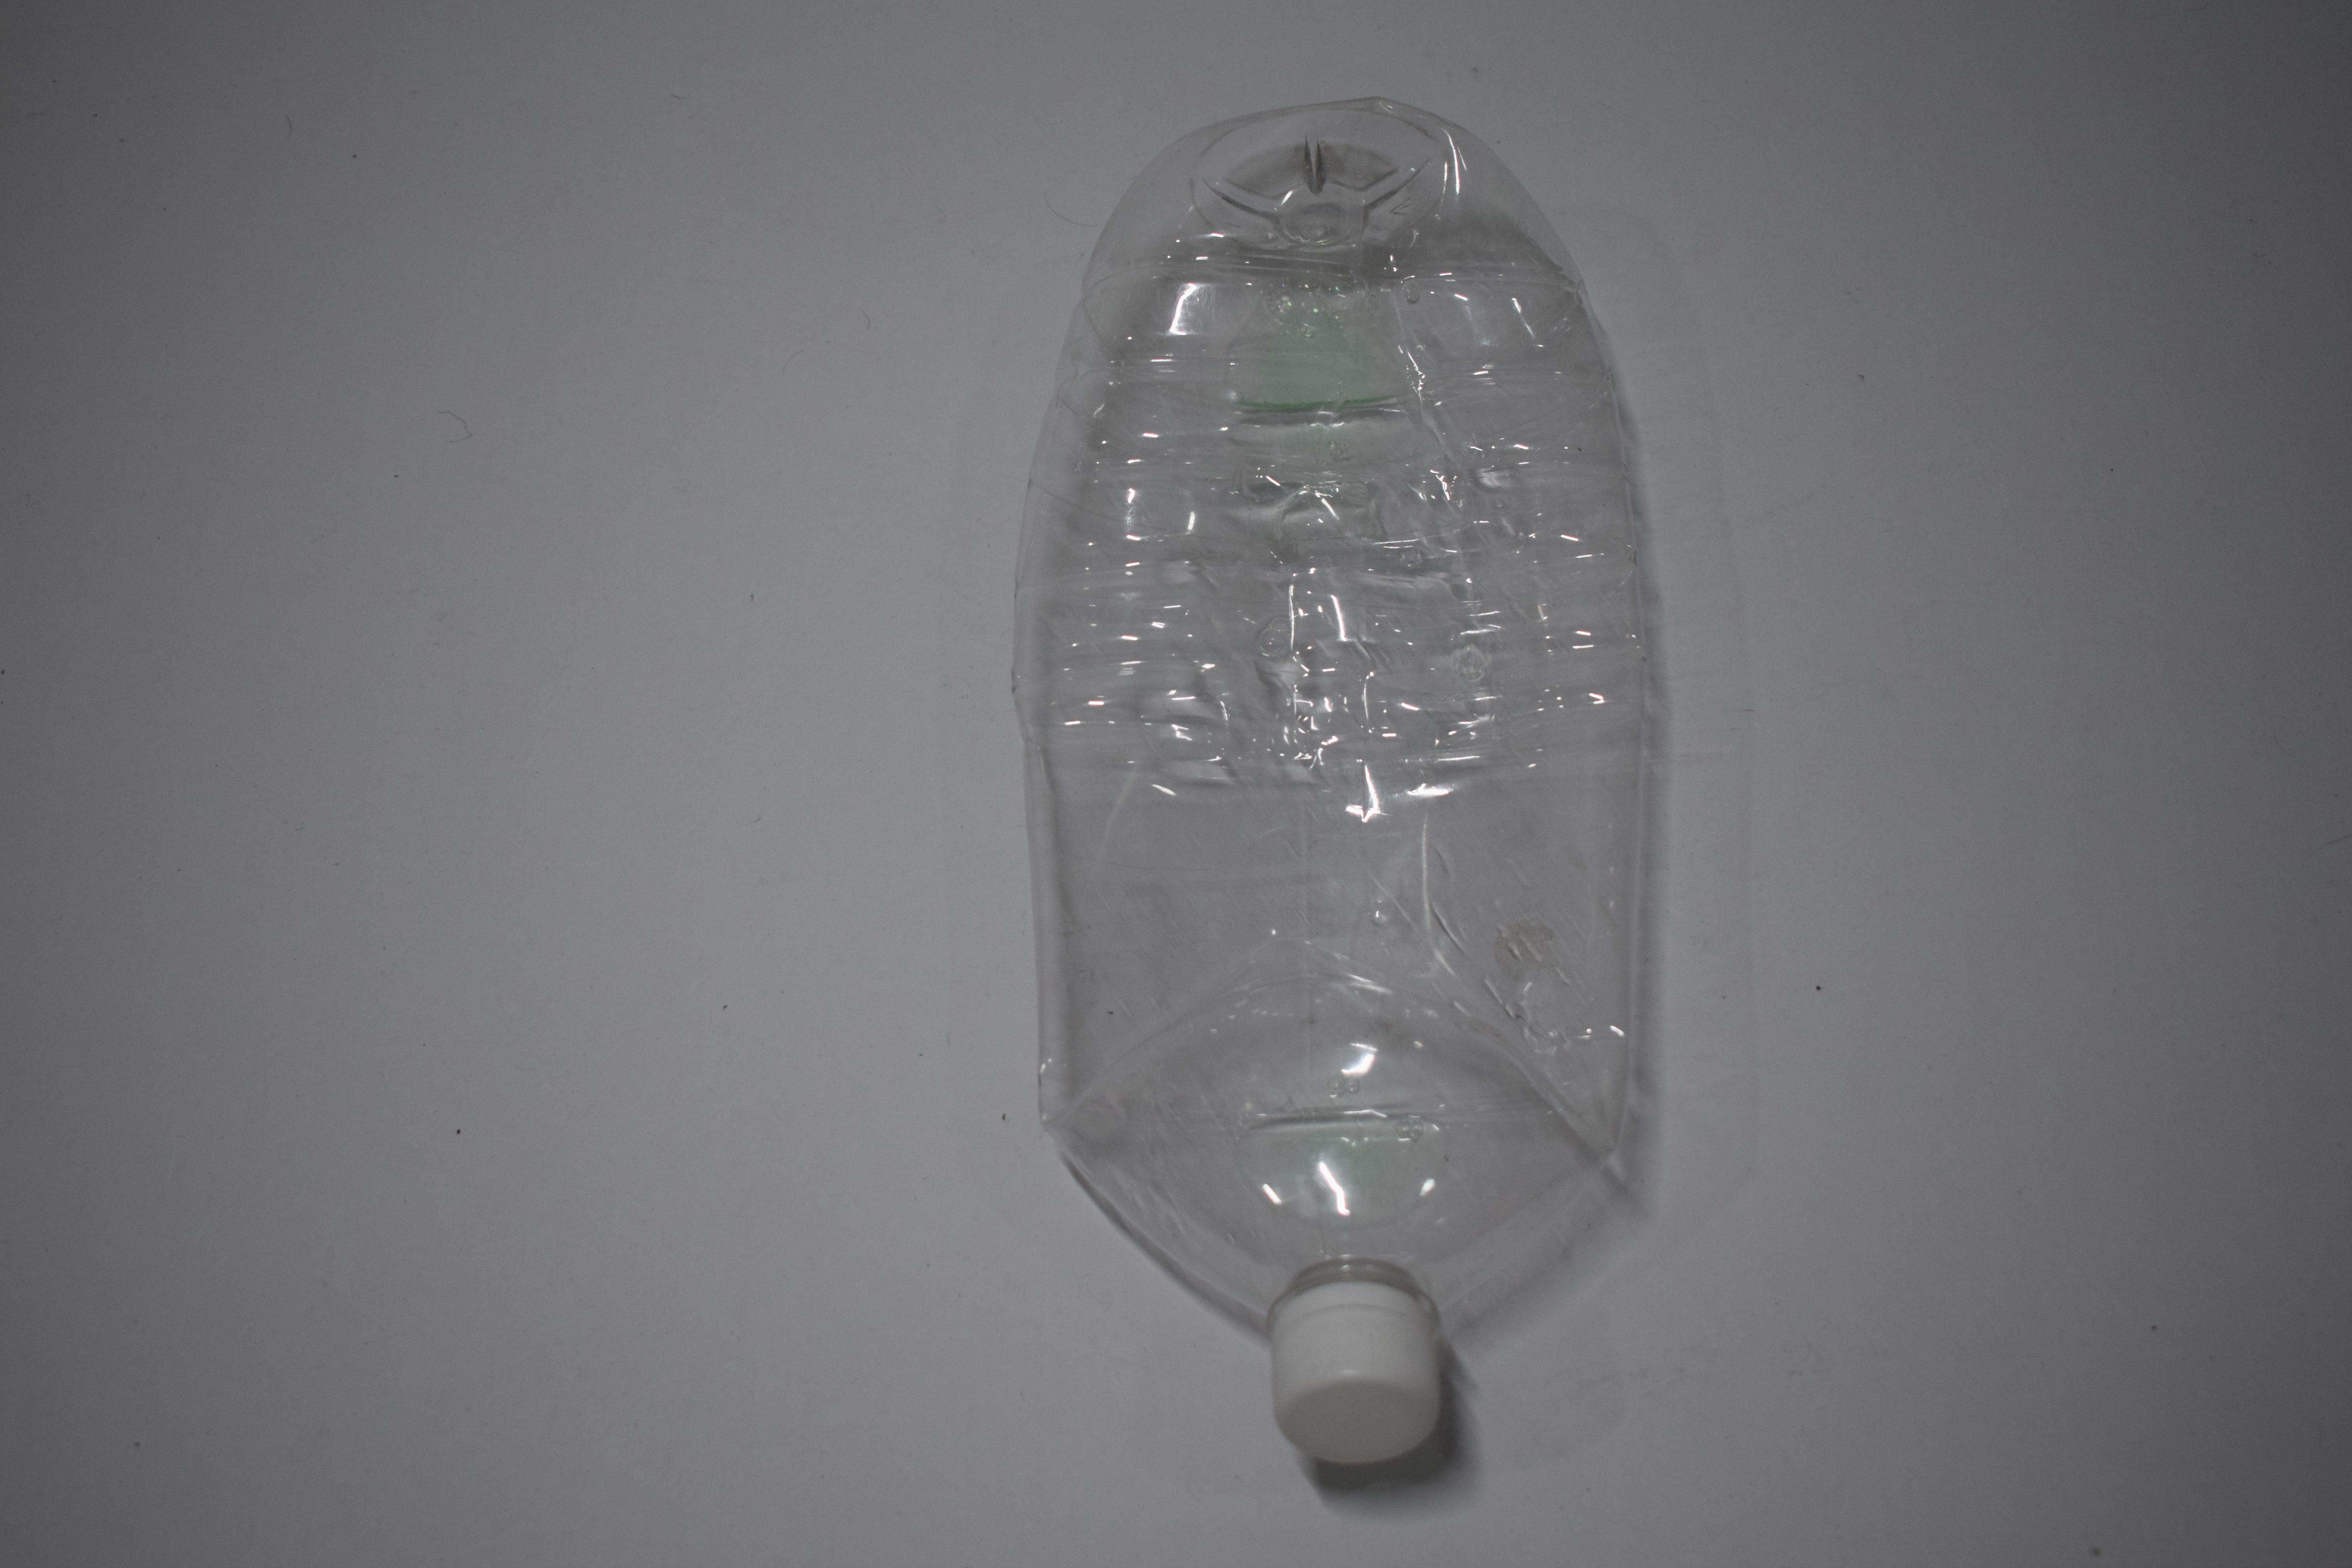bottle: (0, 82, 497, 1477)
